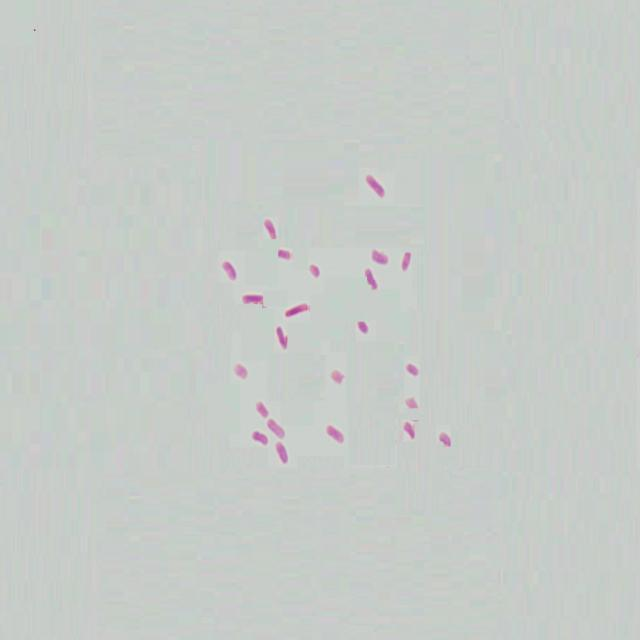E-coli: (367, 170, 389, 199), (324, 416, 344, 444), (402, 392, 424, 414), (284, 301, 309, 319), (243, 291, 266, 310), (276, 325, 291, 352), (262, 218, 278, 243), (356, 314, 374, 336), (275, 442, 289, 470), (250, 426, 267, 449), (222, 258, 237, 284), (364, 265, 378, 292), (253, 398, 270, 420), (438, 428, 454, 451), (269, 417, 285, 439), (404, 420, 418, 442), (405, 360, 421, 379), (308, 258, 321, 280), (233, 358, 246, 379), (330, 367, 346, 384), (276, 247, 295, 261), (401, 248, 412, 272), (372, 247, 387, 262)
